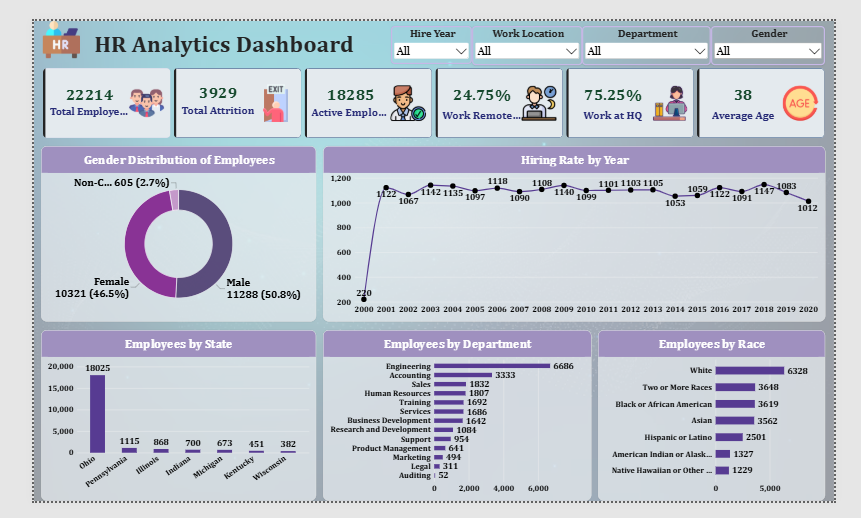

What the dashboard file says about the page in this screenshot:
{"tool":"powerbi","page":{"name":"Page 1","canvas":[2000,1200],"ordinal":0},"visuals":[{"type":"cardVisual","fields":{"Data":["CountNonNull(project_hr_analytics HR.id)","project_hr_analytics HR.Attrition_Yes","project_hr_analytics HR.Active_Emp","project_hr_analytics HR.RemotePercent","project_hr_analytics HR.HQPercent","project_hr_analytics HR.AverageAge"]},"box":[22,117.1,1956,175.2],"z":0},{"type":"lineChart","title":"Hiring Rate by Year","fields":{"Category":["project_hr_analytics HR.Hire Year"],"Y":["Count(project_hr_analytics HR.id)"]},"box":[722,312.2,1256.1,439],"z":1000},{"type":"donutChart","title":"Gender Distribution of Employees","fields":{"Category":["project_hr_analytics HR.gender"],"Y":["CountNonNull(project_hr_analytics HR.id)"]},"box":[17.1,312.2,687.8,439],"z":2000},{"type":"columnChart","title":"Employees by State","fields":{"Category":["project_hr_analytics HR.location_state"],"Y":["CountNonNull(project_hr_analytics HR.id)"]},"box":[17.1,773.2,687.8,426.8],"z":3000},{"type":"barChart","title":"Employees by Department","fields":{"Category":["project_hr_analytics HR.department"],"Y":["CountNonNull(project_hr_analytics HR.id)"]},"box":[722,773.2,670.7,426.8],"z":4000},{"type":"barChart","title":"Employees by Race","fields":{"Category":["project_hr_analytics HR.race"],"Y":["CountNonNull(project_hr_analytics HR.id)"]},"box":[1409.8,773.2,568,427],"z":5000},{"type":"textbox","box":[136.6,22,680.5,70.7],"z":6000},{"type":"image","box":[0,0,136.6,92.7],"z":7000},{"type":"slicer","title":"Gender","fields":{"Values":["project_hr_analytics HR.gender"]},"box":[1692.7,12.2,285.4,97.6],"z":8000},{"type":"slicer","title":"Department","fields":{"Values":["project_hr_analytics HR.department"]},"box":[1370.7,12.2,322,97.6],"z":9000},{"type":"slicer","title":"Work Location","fields":{"Values":["project_hr_analytics HR.location"]},"box":[1095.1,12.2,275.6,97.6],"z":10000},{"type":"slicer","title":"Hire Year","fields":{"Values":["project_hr_analytics HR.Hire Year"]},"box":[892.7,12.2,202.4,95.1],"z":11000}]}

Visuals, with their boxes in screenshot pixels (x1, y1, x2, y2), scaled from the page's 2000x1200 canvas onto the 861x518 screenshot:
cardVisual - CountNonNull(project_hr_analytics HR.id) x project_hr_analytics HR.Attrition_Yes: [x1=9, y1=51, x2=852, y2=126]
"Hiring Rate by Year" lineChart: [x1=311, y1=135, x2=852, y2=324]
"Gender Distribution of Employees" donutChart: [x1=7, y1=135, x2=303, y2=324]
"Employees by State" columnChart: [x1=7, y1=334, x2=303, y2=517]
"Employees by Department" barChart: [x1=311, y1=334, x2=600, y2=517]
"Employees by Race" barChart: [x1=607, y1=334, x2=851, y2=517]
textbox: [x1=59, y1=9, x2=352, y2=40]
image: [x1=0, y1=0, x2=59, y2=40]
"Gender" slicer: [x1=729, y1=5, x2=852, y2=47]
"Department" slicer: [x1=590, y1=5, x2=729, y2=47]
"Work Location" slicer: [x1=471, y1=5, x2=590, y2=47]
"Hire Year" slicer: [x1=384, y1=5, x2=471, y2=46]
